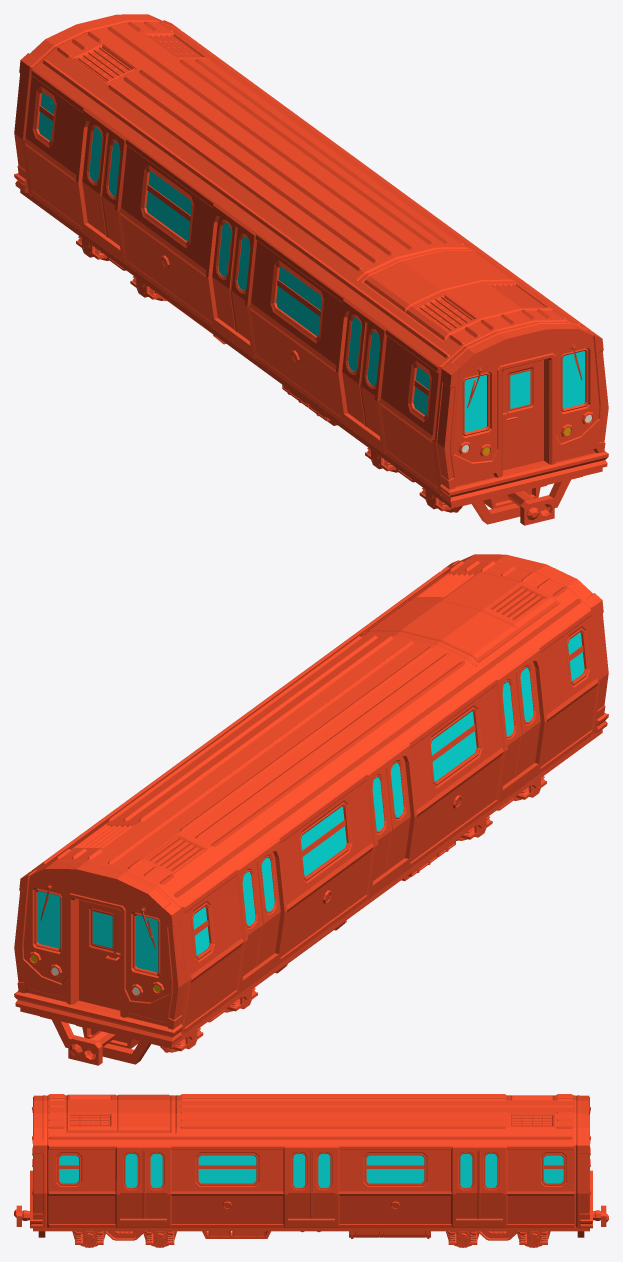
Rendered from SM_Train_Overground_Clean_City.fbx.
The picture shows the model from 3 angles, top to bottom: view 1: azimuth 30°, elevation 25°; view 2: azimuth 150°, elevation 25°; view 3: azimuth 270°, elevation 25°; orthographic projection. The views are drawn at different scales.
Visible parts, largest first — view 1: SM_Train_Overground_Clean_City_Base, SM_Train_Overground_Clean_City_Joint_F, SM_Train_Overground_Clean_City_Chassis_F; view 2: SM_Train_Overground_Clean_City_Base, SM_Train_Overground_Clean_City_Joint_B, SM_Train_Overground_Clean_City_Chassis_B, SM_Train_Overground_Clean_City_Chassis_F; view 3: SM_Train_Overground_Clean_City_Base, SM_Train_Overground_Clean_City_Chassis_F, SM_Train_Overground_Clean_City_Chassis_B, SM_Train_Overground_Clean_City_Joint_B, SM_Train_Overground_Clean_City_Joint_F.
Boxes of the visible parts, left/top/right/bottom form: SM_Train_Overground_Clean_City_Base: left=14, top=14, right=608, bottom=524; SM_Train_Overground_Clean_City_Joint_F: left=507, top=491, right=554, bottom=525; SM_Train_Overground_Clean_City_Chassis_F: left=365, top=447, right=546, bottom=511; SM_Train_Overground_Clean_City_Base: left=14, top=554, right=608, bottom=1064; SM_Train_Overground_Clean_City_Joint_B: left=68, top=1031, right=115, bottom=1065; SM_Train_Overground_Clean_City_Chassis_B: left=76, top=987, right=257, bottom=1051; SM_Train_Overground_Clean_City_Chassis_F: left=460, top=776, right=546, bottom=839; SM_Train_Overground_Clean_City_Base: left=30, top=1094, right=592, bottom=1238; SM_Train_Overground_Clean_City_Chassis_F: left=74, top=1231, right=174, bottom=1247; SM_Train_Overground_Clean_City_Chassis_B: left=448, top=1231, right=548, bottom=1247; SM_Train_Overground_Clean_City_Joint_B: left=593, top=1205, right=608, bottom=1226; SM_Train_Overground_Clean_City_Joint_F: left=14, top=1205, right=29, bottom=1226.
Size of the model in its own units: 3.59 by 4.1 by 16.86.
